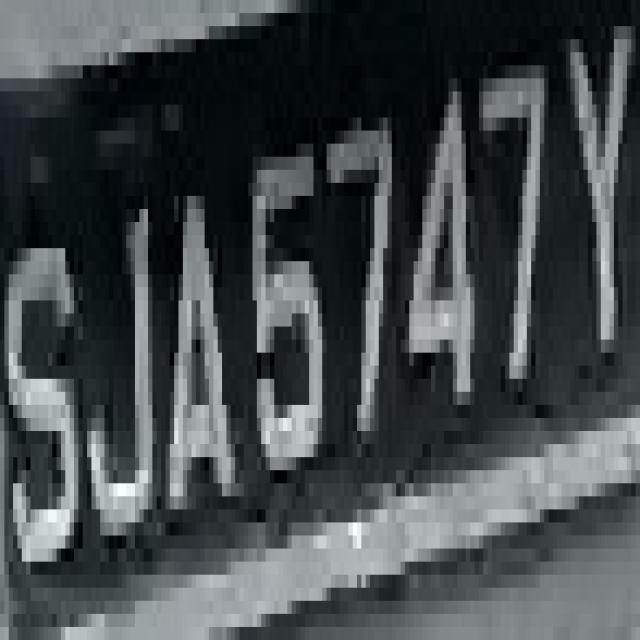4: (396, 65, 479, 444)
5: (239, 131, 318, 496)
7: (305, 78, 392, 510), (466, 39, 548, 405)
A: (157, 183, 235, 535)
J: (74, 169, 165, 562)
S: (4, 170, 87, 601)
Y: (557, 26, 640, 418)
